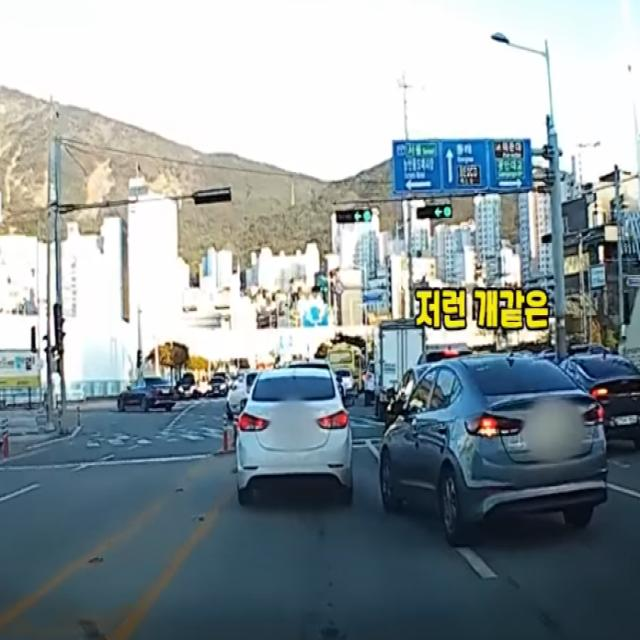Green Light: (363, 209, 371, 223), (444, 205, 452, 218)
